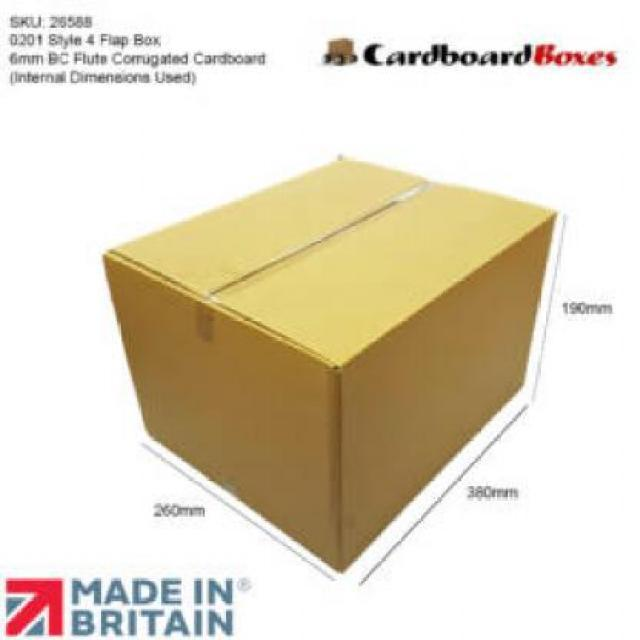box: (100, 152, 562, 582)
